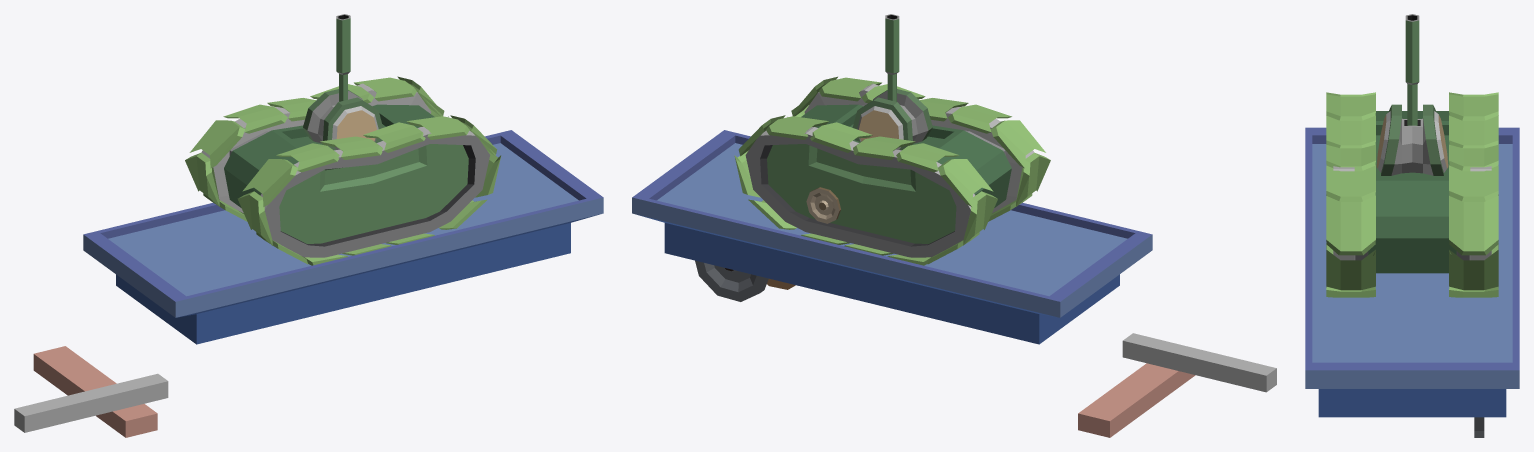
Rendered from tank.001).fbx.
The picture shows the model from 3 angles, left to right: view 1: azimuth 30°, elevation 25°; view 2: azimuth 150°, elevation 25°; view 3: azimuth 270°, elevation 25°; orthographic projection. The views are drawn at different scales.
Visible parts, largest first — view 1: vagoon, tankBody, tankPallets, tankBarrel, Cube_084, crackedPlank; view 2: vagoon, tankBody, tankPallets, tankBarrel, Cube_084, crackedPlank, vagoonWheel, tankWheel; view 3: vagoon, tankPallets, tankBody, tankBarrel, vagoonWheel.
Part boxes in pixels (x1,y1,x2,y2): vagoon: (83,130,603,344); tankBody: (201,83,490,257); tankPallets: (185,76,501,265); tankBarrel: (303,14,382,150); Cube_084: (14,373,168,432); crackedPlank: (33,346,157,437); vagoon: (632,130,1152,344); tankBody: (745,83,1034,257); tankPallets: (734,76,1050,265); tankBarrel: (852,14,932,150); Cube_084: (1122,333,1276,392); crackedPlank: (1078,363,1195,437); vagoonWheel: (695,260,768,301); tankWheel: (806,187,840,223); vagoon: (1305,127,1519,417); tankPallets: (1326,92,1498,297); tankBody: (1333,111,1491,273); tankBarrel: (1376,14,1448,175); vagoonWheel: (1474,417,1484,437).
Size of the model in its own units: 708 by 386 by 200.
